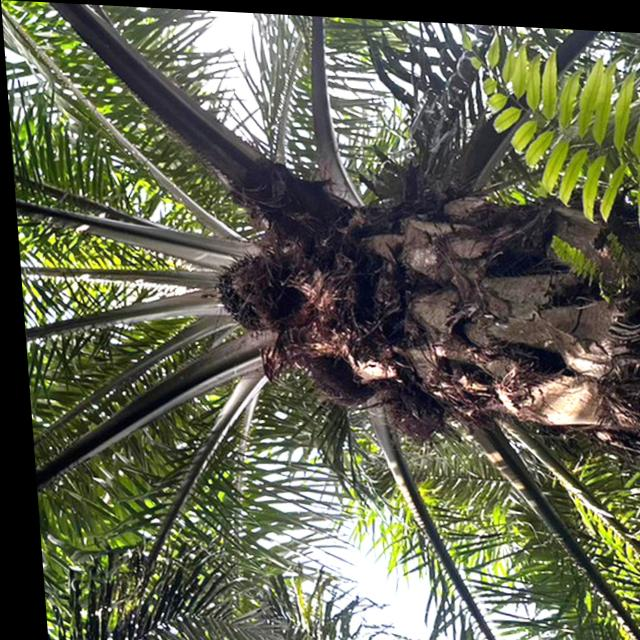unripe: (201, 240, 289, 338)
